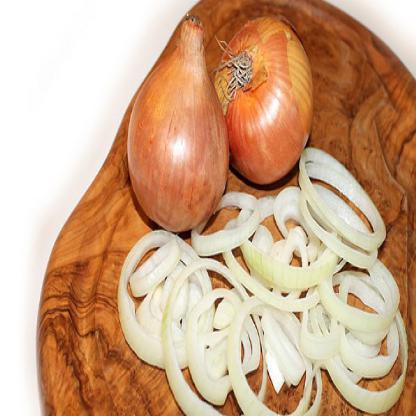onion: (226, 211, 378, 407), (125, 67, 229, 221), (225, 30, 310, 172)
